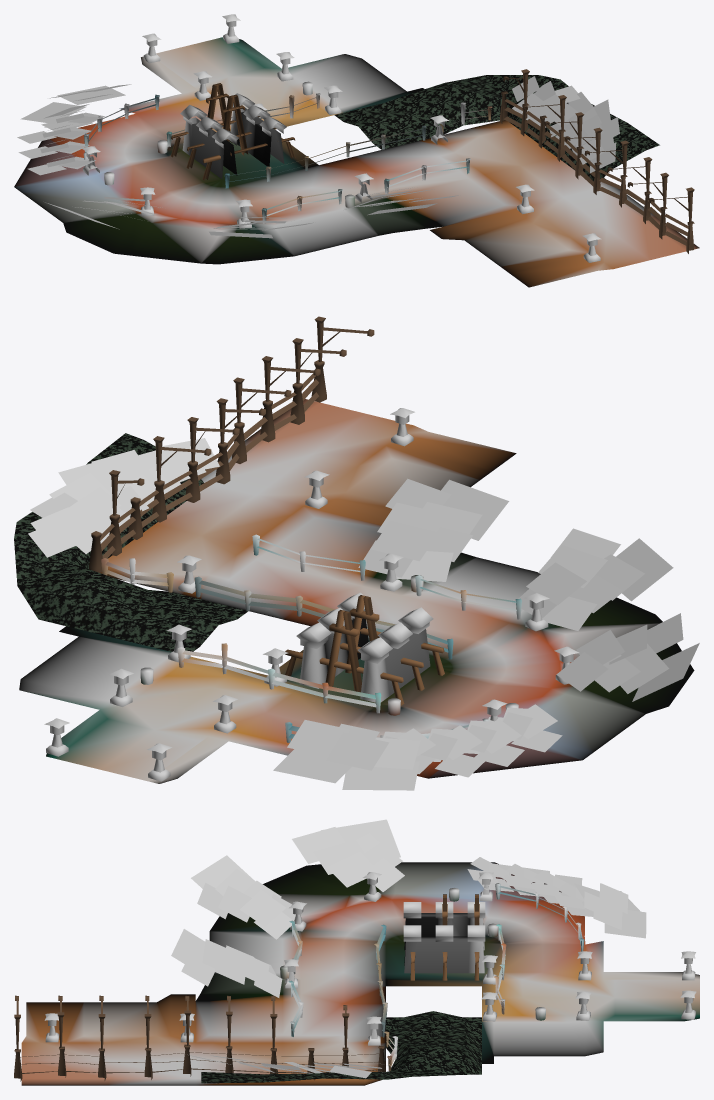
The model's file is zone09.FBX.
The picture shows the model from 3 angles, top to bottom: view 1: azimuth 30°, elevation 25°; view 2: azimuth 150°, elevation 25°; view 3: azimuth 270°, elevation 25°; orthographic projection. The views are drawn at different scales.
Visible parts, largest first — view 1: Object22, objdefault, Object1063, Object07; view 2: Object22, Object1063, objdefault, Object07; view 3: Object22, Object1063, objdefault, Object07.
Boxes of the visible parts, bbox=[...] form: Object22: bbox=[14, 14, 699, 287]; objdefault: bbox=[334, 75, 659, 181]; Object1063: bbox=[17, 84, 458, 238]; Object07: bbox=[512, 76, 619, 173]; Object22: bbox=[19, 316, 694, 783]; Object1063: bbox=[273, 478, 699, 790]; objdefault: bbox=[14, 433, 248, 651]; Object07: bbox=[28, 438, 219, 557]; Object22: bbox=[14, 862, 699, 1085]; Object1063: bbox=[171, 819, 646, 997]; objdefault: bbox=[201, 1011, 481, 1083]; Object07: bbox=[187, 1054, 398, 1078].
Size of the model in its own units: 5062 by 584 by 5656.
